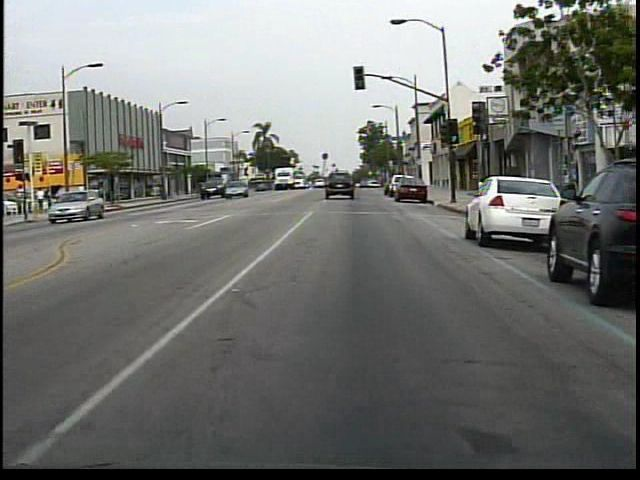person: (36, 183, 49, 213)
